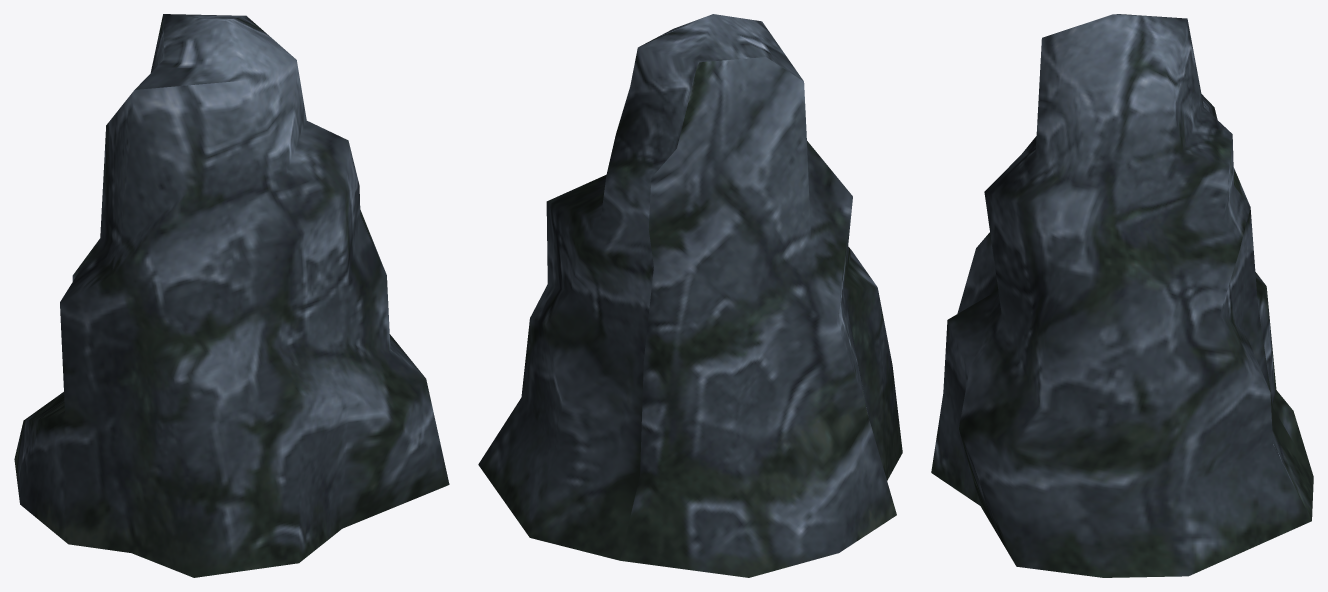
File: cs_lobbynew02_shitou01_05.FBX
The picture shows the model from 3 angles, left to right: view 1: azimuth 30°, elevation 25°; view 2: azimuth 150°, elevation 25°; view 3: azimuth 270°, elevation 25°; orthographic projection.
Parts seen in each view (by area): view 1: cs_lobbynew02_shitou01_05; view 2: cs_lobbynew02_shitou01_05; view 3: cs_lobbynew02_shitou01_05.
Part boxes in pixels (x1,y1,x2,y2): cs_lobbynew02_shitou01_05: (14,14,449,577); cs_lobbynew02_shitou01_05: (478,14,902,577); cs_lobbynew02_shitou01_05: (931,14,1313,577).
Bounding box in the file's own units: 881 × 1073 × 797.
